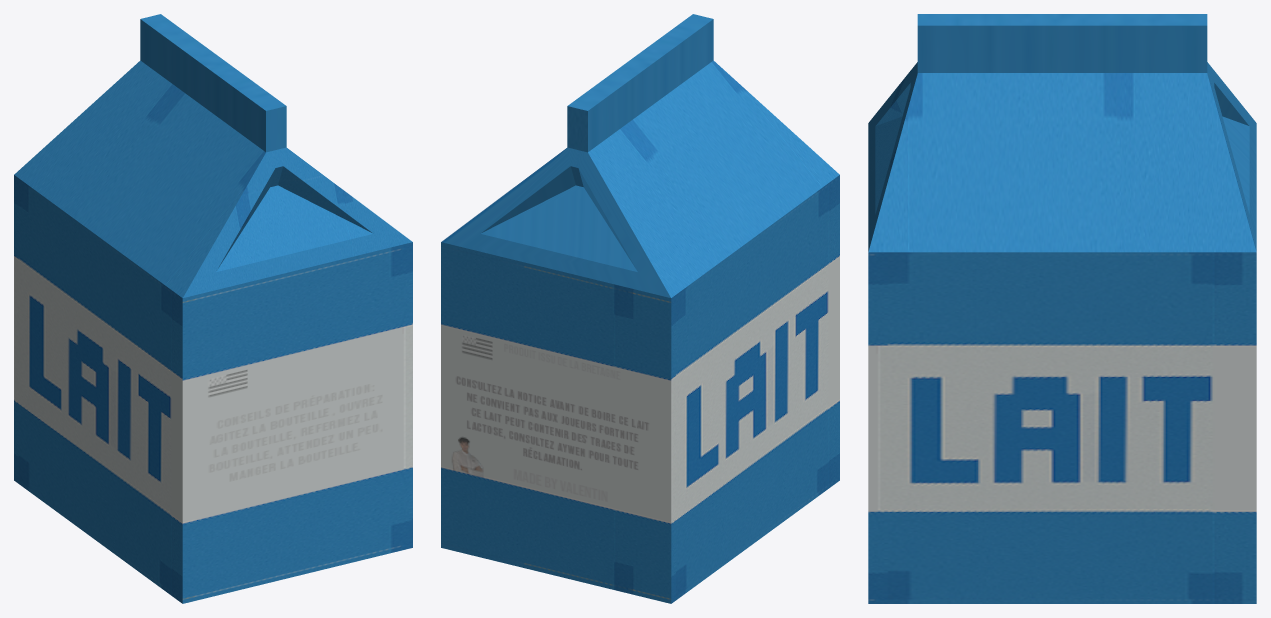
Rendered from Milk.fbx.
3 renders of one model, left to right at view 1: azimuth 30°, elevation 25°; view 2: azimuth 150°, elevation 25°; view 3: azimuth 270°, elevation 25°, orthographic. The views are drawn at different scales.
Parts seen in each view (by area): view 1: Milk; view 2: Milk; view 3: Milk.
Boxes of the visible parts, left/top/right/bottom form: Milk: left=14, top=14, right=412, bottom=603; Milk: left=441, top=14, right=839, bottom=603; Milk: left=868, top=14, right=1256, bottom=603.
Bounding box in the file's own units: 18.72 × 35.1 × 23.76.
